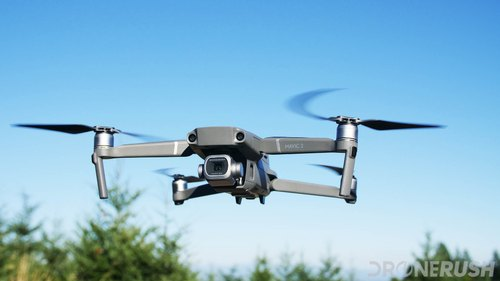drone: (10, 84, 449, 210)
